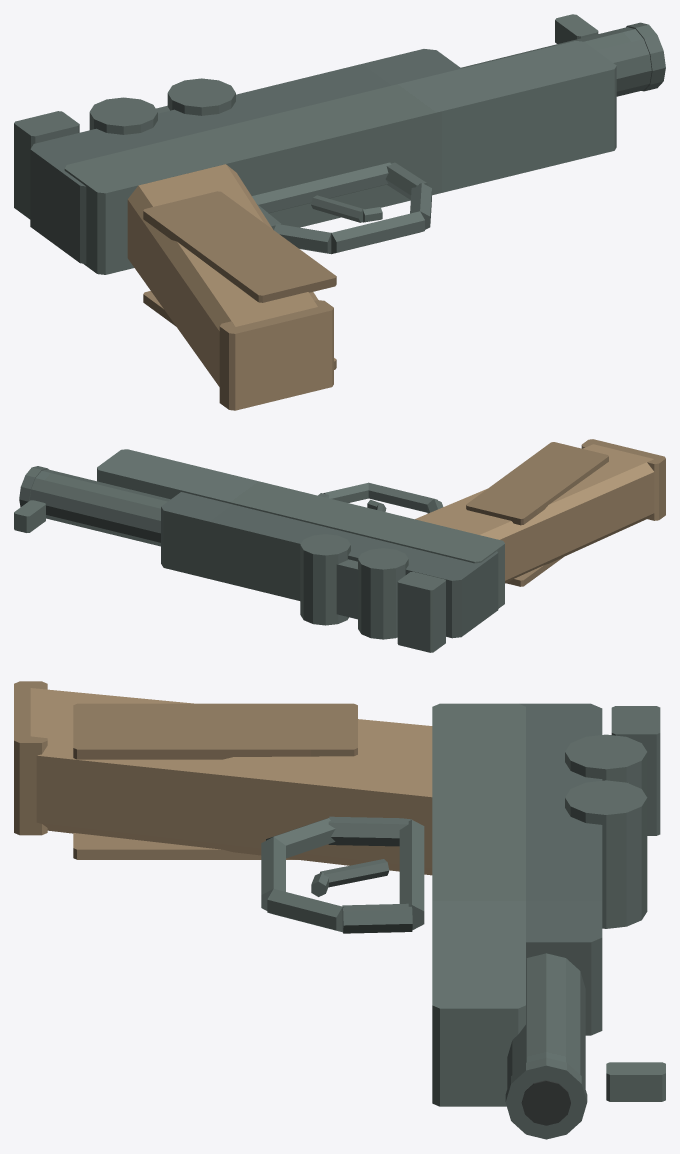
File: weapon-luger-p08.glb
3 views of the same model, one above another, from view 1: azimuth 30°, elevation 25°; view 2: azimuth 150°, elevation 25°; view 3: azimuth 270°, elevation 25° (orthographic). The views are drawn at different scales.
Parts seen in each view (by area): view 1: weapon-luger-p08/lower-frame, weapon-luger-p08/rear-receiver, weapon-luger-p08/eight-sided-grip, weapon-luger-p08/independent-grip-panels-left, weapon-luger-p08/eight-sided-grip-heel, weapon-luger-p08/exposed-round-barrel, weapon-luger-p08/rear-sight, weapon-luger-p08/hollow-trigger-guard-1, weapon-luger-p08/toggle-knuckle--0.06290000000000001, weapon-luger-p08/toggle-knuckle--0.0339, weapon-luger-p08/hollow-trigger-guard-4, weapon-luger-p08/hollow-trigger-guard-5 (+5 smaller); view 2: weapon-luger-p08/rear-receiver, weapon-luger-p08/lower-frame, weapon-luger-p08/eight-sided-grip, weapon-luger-p08/exposed-round-barrel, weapon-luger-p08/independent-grip-panels-left, weapon-luger-p08/toggle-knuckle--0.06290000000000001, weapon-luger-p08/toggle-knuckle--0.0339, weapon-luger-p08/rear-sight, weapon-luger-p08/toggle-upper-link, weapon-luger-p08/eight-sided-grip-heel, weapon-luger-p08/hollow-trigger-guard-4, weapon-luger-p08/front-sight (+3 smaller); view 3: weapon-luger-p08/eight-sided-grip, weapon-luger-p08/lower-frame, weapon-luger-p08/rear-receiver, weapon-luger-p08/independent-grip-panels-left, weapon-luger-p08/toggle-knuckle--0.0339, weapon-luger-p08/exposed-round-barrel, weapon-luger-p08/eight-sided-grip-heel, weapon-luger-p08/exposed-round-barrel-end-rim, weapon-luger-p08/toggle-knuckle--0.06290000000000001, weapon-luger-p08/independent-grip-panels-right, weapon-luger-p08/rear-sight, weapon-luger-p08/hollow-trigger-guard-1 (+8 smaller).
Part boxes in pixels (x1,y1,x2,y2): weapon-luger-p08/lower-frame: (64,41,616,274); weapon-luger-p08/rear-receiver: (30,49,461,263); weapon-luger-p08/eight-sided-grip: (127,164,318,386); weapon-luger-p08/independent-grip-panels-left: (143,191,336,302); weapon-luger-p08/eight-sided-grip-heel: (219,300,333,410); weapon-luger-p08/exposed-round-barrel: (461,27,651,96); weapon-luger-p08/rear-sight: (14,111,79,219); weapon-luger-p08/hollow-trigger-guard-1: (252,162,391,213); weapon-luger-p08/toggle-knuckle--0.06290000000000001: (89,97,157,134); weapon-luger-p08/toggle-knuckle--0.0339: (167,78,235,115); weapon-luger-p08/hollow-trigger-guard-4: (331,211,424,253); weapon-luger-p08/hollow-trigger-guard-5: (274,224,331,253); weapon-luger-p08/rear-receiver: (161,492,498,638); weapon-luger-p08/lower-frame: (97,449,504,608); weapon-luger-p08/eight-sided-grip: (415,444,654,583); weapon-luger-p08/exposed-round-barrel: (29,469,170,546); weapon-luger-p08/independent-grip-panels-left: (466,442,608,525); weapon-luger-p08/toggle-knuckle--0.06290000000000001: (358,548,408,639); weapon-luger-p08/toggle-knuckle--0.0339: (300,534,350,625); weapon-luger-p08/rear-sight: (397,571,445,652); weapon-luger-p08/toggle-upper-link: (336,559,358,619); weapon-luger-p08/eight-sided-grip-heel: (581,439,665,520); weapon-luger-p08/hollow-trigger-guard-4: (368,483,437,512); weapon-luger-p08/front-sight: (14,500,45,532); weapon-luger-p08/eight-sided-grip: (30,688,432,875); weapon-luger-p08/lower-frame: (432,703,525,1106); weapon-luger-p08/rear-receiver: (519,703,602,1035); weapon-luger-p08/independent-grip-panels-left: (73,703,357,759); weapon-luger-p08/toggle-knuckle--0.0339: (565,780,647,928); weapon-luger-p08/exposed-round-barrel: (507,953,585,1088); weapon-luger-p08/eight-sided-grip-heel: (14,681,47,835); weapon-luger-p08/exposed-round-barrel-end-rim: (505,1057,587,1139); weapon-luger-p08/toggle-knuckle--0.06290000000000001: (565,734,647,796); weapon-luger-p08/independent-grip-panels-right: (73,833,297,859); weapon-luger-p08/rear-sight: (611,706,660,835); weapon-luger-p08/hollow-trigger-guard-1: (399,820,424,930).
Size of the model in its own units: 0.238 by 0.0336 by 0.1745.
3 materials, 3 textured.
